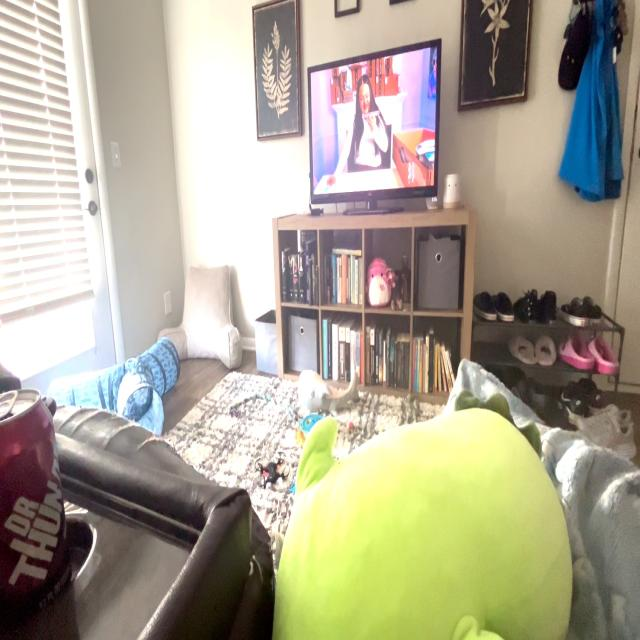drone: (248, 436, 293, 502)
